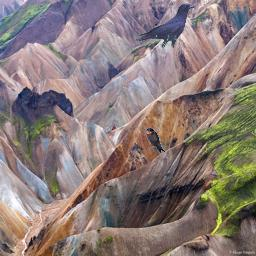Crow: (135, 3, 196, 52)
Swallow: (145, 128, 165, 153)
